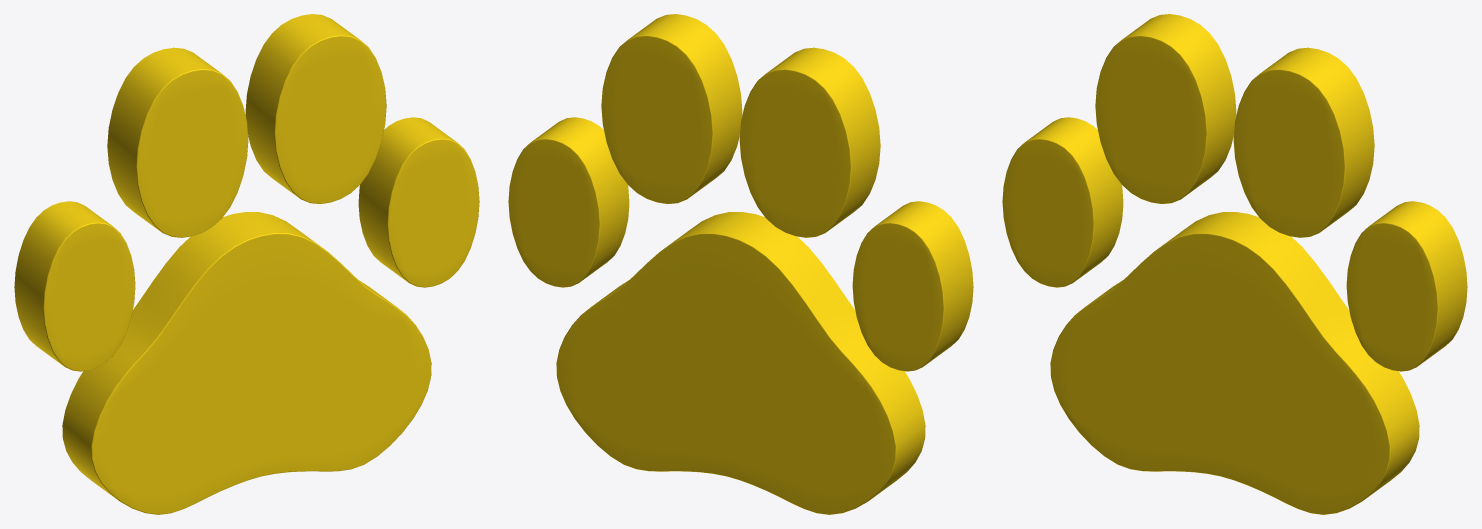
The model's file is Store_11_Paw_1.glb.
3 views of the same model, side by side, from view 1: azimuth 30°, elevation 25°; view 2: azimuth 150°, elevation 25°; view 3: azimuth 330°, elevation 25° (orthographic).
Visible parts, largest first — view 1: Store_11_Paw_1; view 2: Store_11_Paw_1; view 3: Store_11_Paw_1.
Boxes of the visible parts, x1=… form: Store_11_Paw_1: x1=14, y1=14, x2=479, y2=514; Store_11_Paw_1: x1=508, y1=14, x2=973, y2=514; Store_11_Paw_1: x1=1002, y1=14, x2=1467, y2=514.
Size of the model in its own units: 0.9747 by 0.9346 by 0.1152.
1 material, 1 textured.
